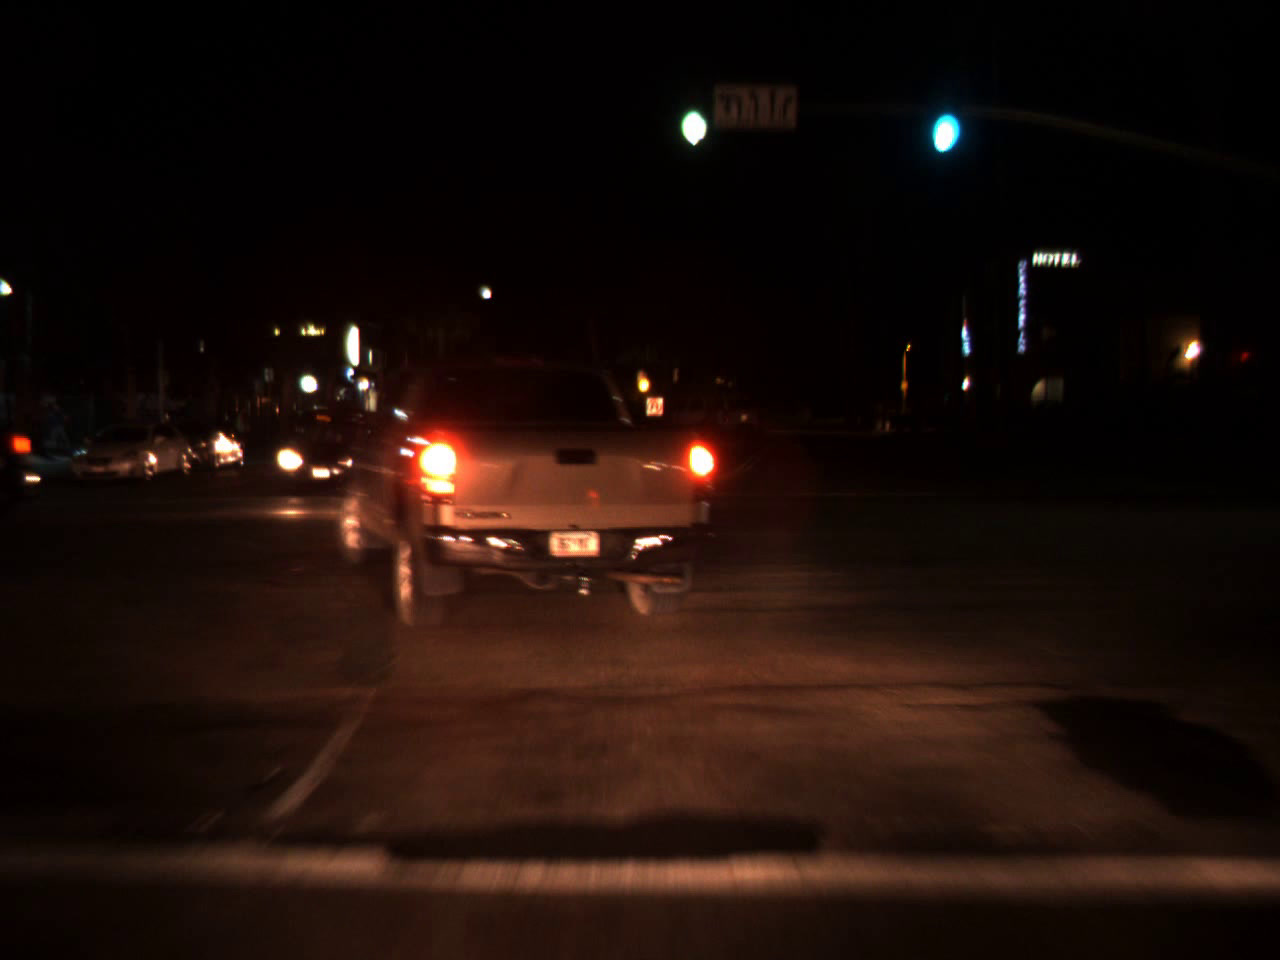go: (919, 79, 965, 163), (677, 70, 705, 154)
